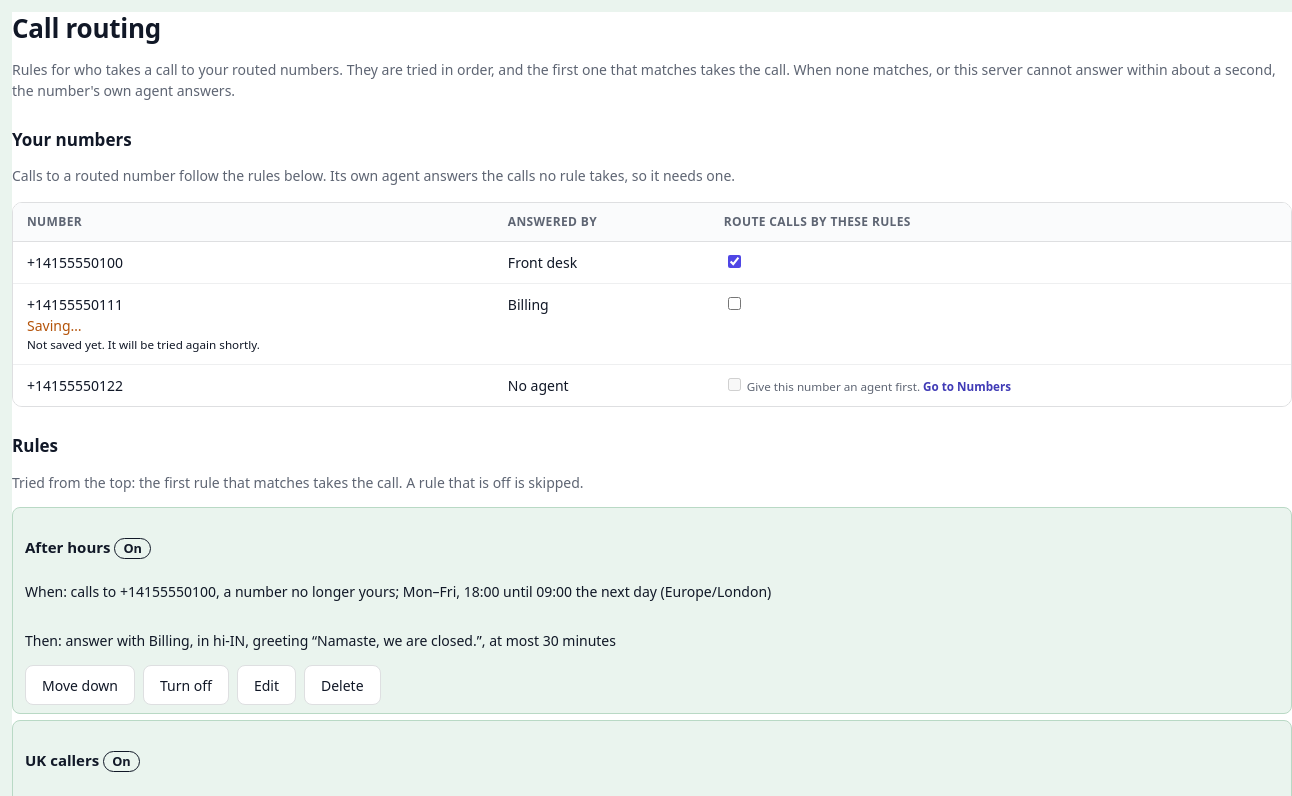
Test: call routing: the page and its numbers › says the backend's word beside the number when it cannot be routed (409, 502), leaving its switch as it was
This screenshot has width=1292, height=796.
Expected: the heading "Rules" is shown, [12, 434, 58, 457]
Click the switch named "Route calls to +14155550111 by these rules" at {"x": 734, "y": 304}, box [728, 297, 741, 310]
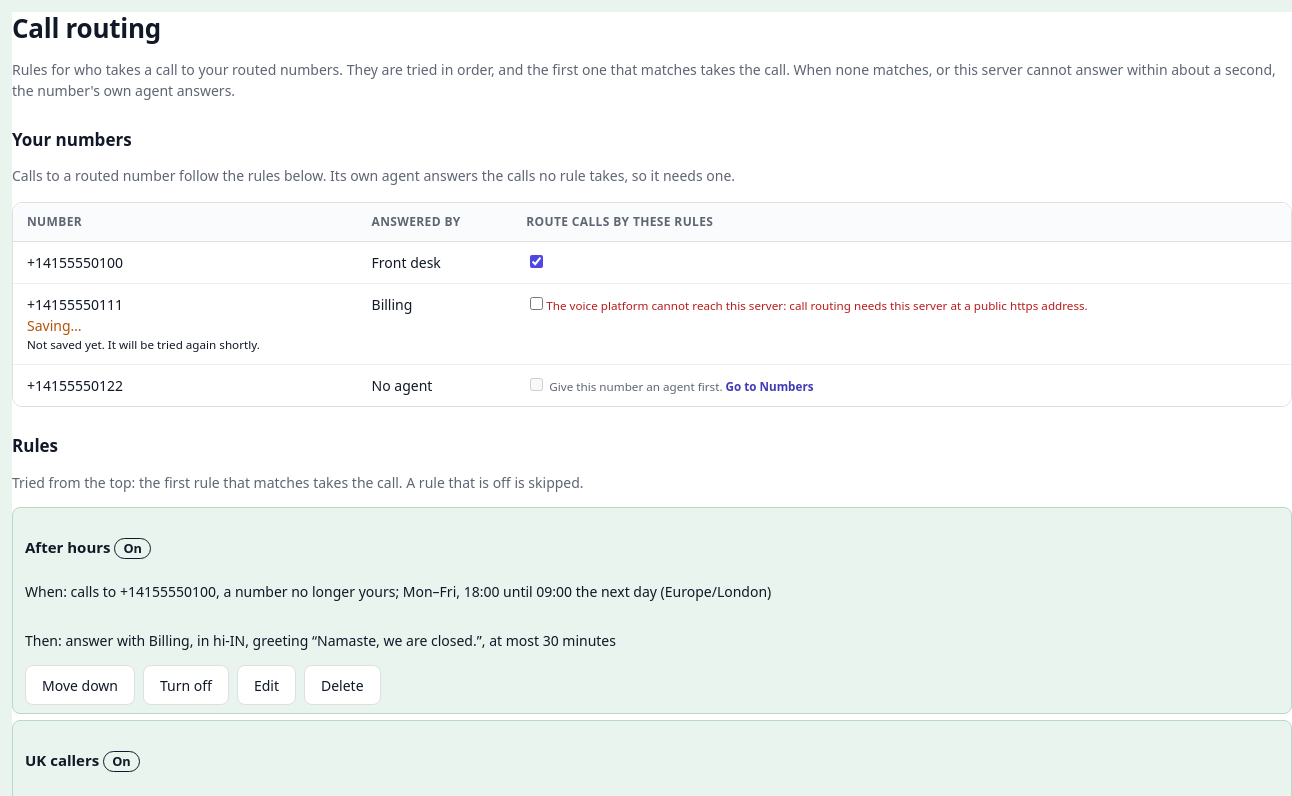
Now the message shows "The voice platform cannot reach this server: call routing needs this server at a public https address.", box [546, 298, 1088, 313]
Click the switch named "Route calls to +14155550111 by these rules" at {"x": 537, "y": 304}, box [530, 297, 543, 310]
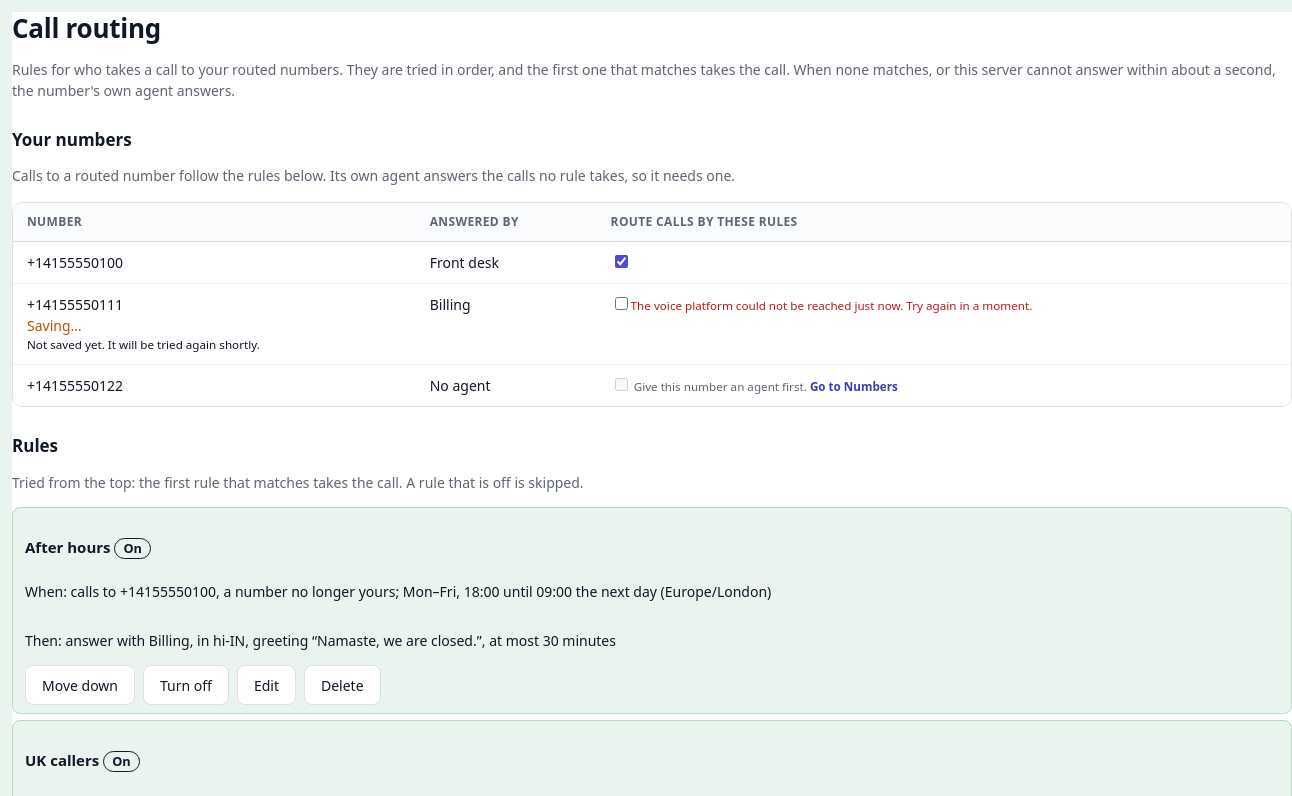
Now the message reads "The voice platform could not be reached just now. Try again in a moment.", box [631, 298, 1032, 313]
